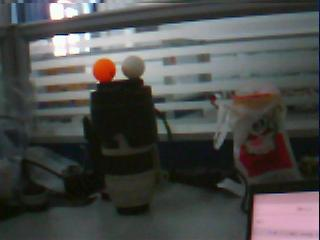oball: (93, 58, 116, 81)
